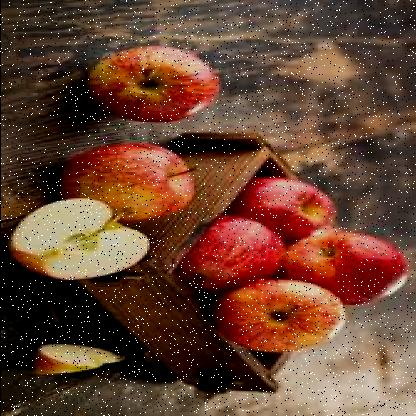apple: (52, 139, 198, 221), (86, 44, 221, 122), (218, 279, 347, 355), (285, 229, 411, 306), (178, 219, 290, 294), (228, 171, 342, 242)
damaged_apple: (10, 196, 151, 286), (40, 340, 132, 376)
